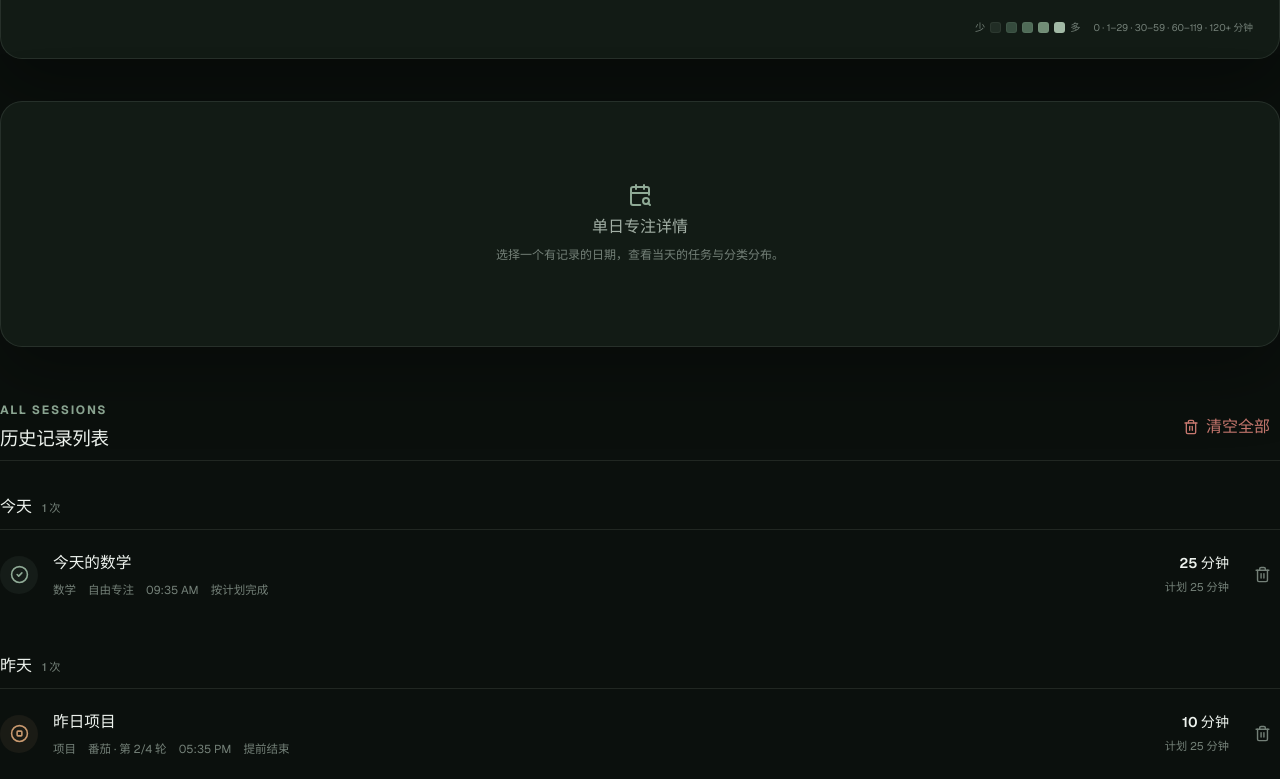
Test: HistoryDashboard › updates the heatmap and selection immediately after deleting the final selected record
(page scrolled)
Click the button named "删除记录：今天的数学": click(1262, 575) [1244, 557, 1279, 593]
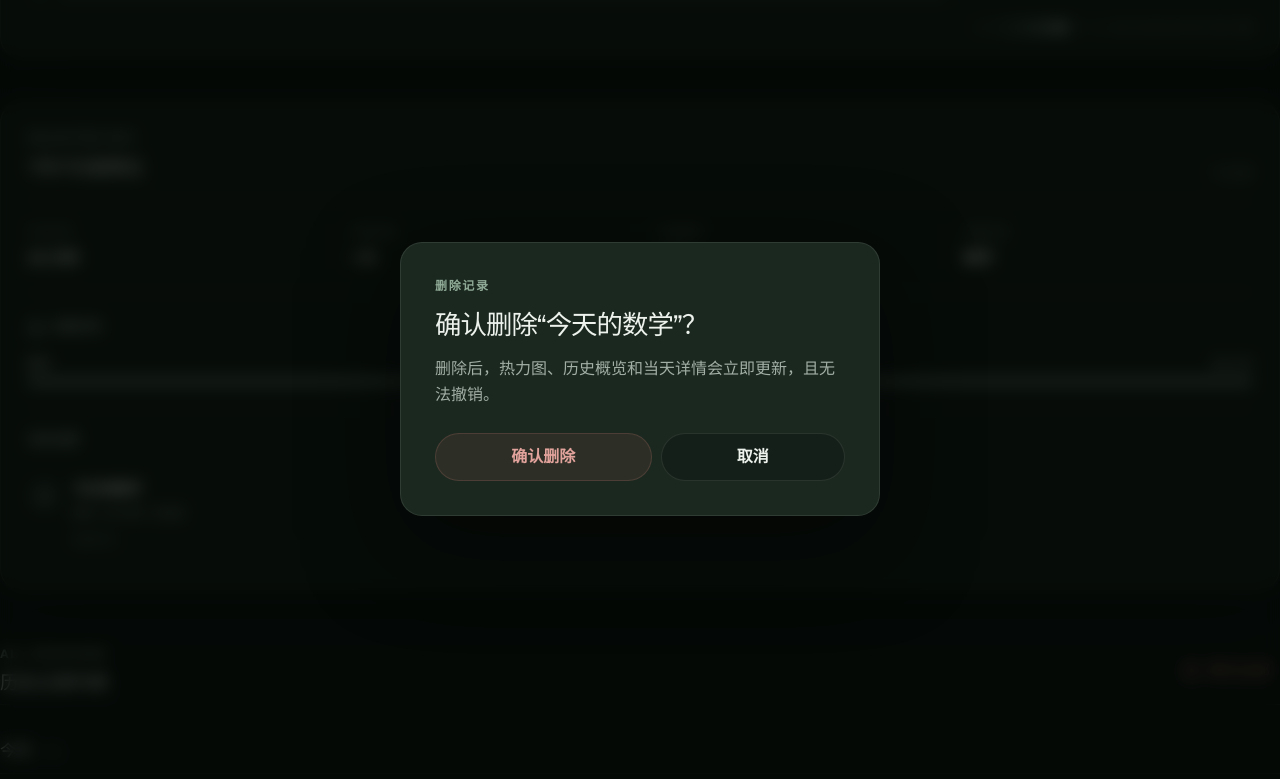
Check: the dialog "确认删除“今天的数学”？" is shown, box [400, 242, 880, 516]
Click the button "确认删除": click(543, 457) [435, 433, 652, 481]
(page scrolled)
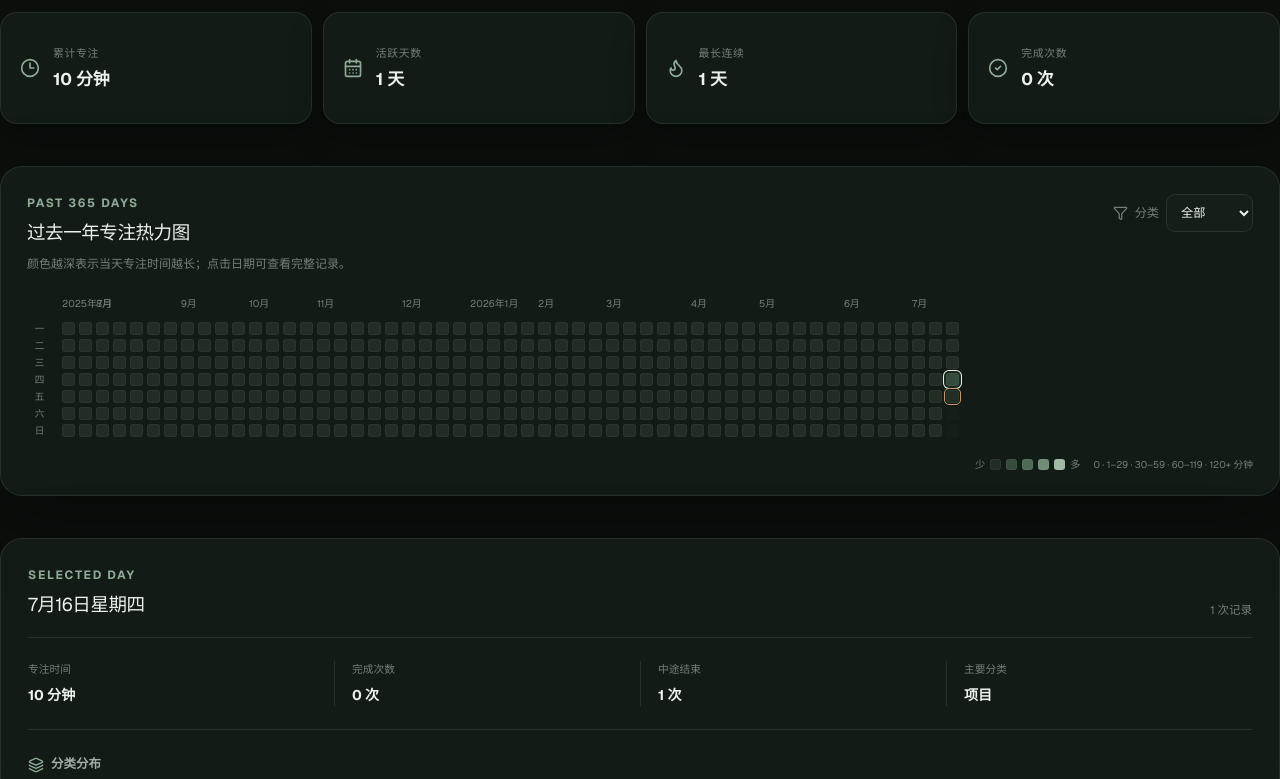
Check: the text "今天的数学" is gone
